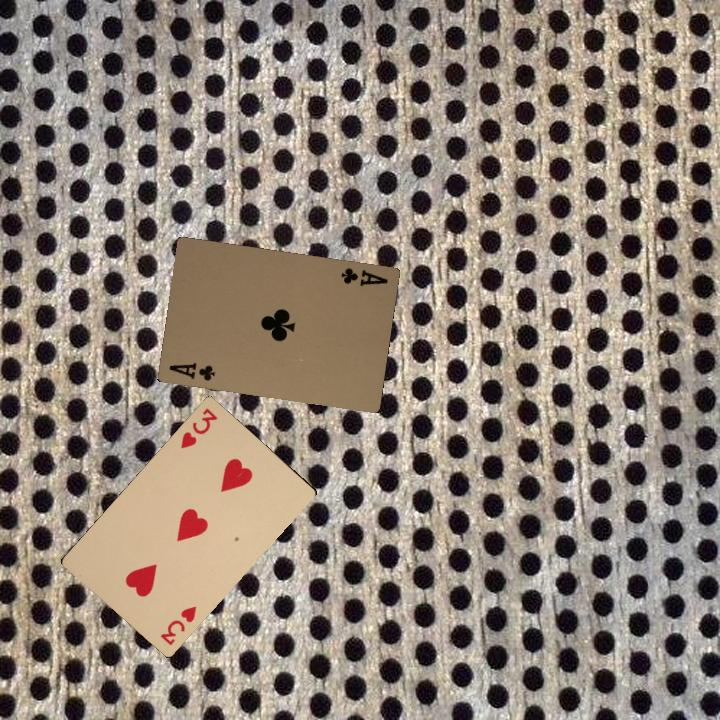3h: (176, 404, 220, 451), (156, 602, 199, 648)
Ac: (337, 264, 390, 289), (165, 358, 217, 383)
